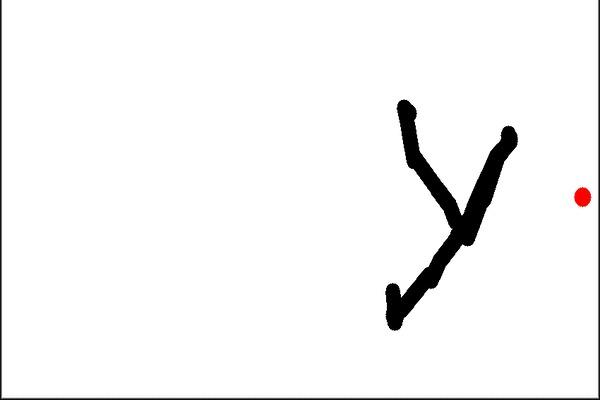Y: (359, 83, 531, 333)
